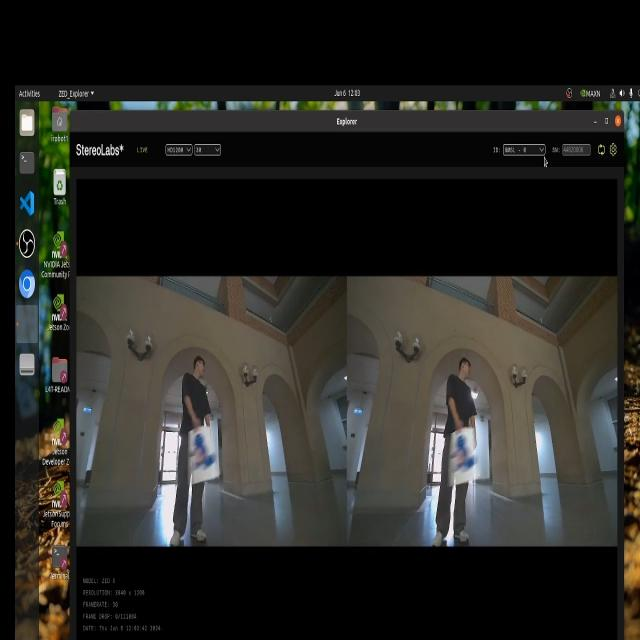blue: (188, 426, 222, 476), (450, 428, 477, 478)
